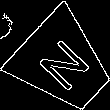N_SE: (32, 33, 96, 97)
